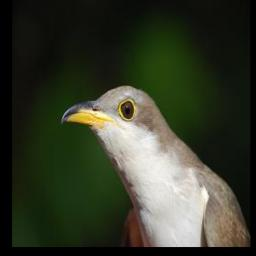Cuckoo: (61, 83, 250, 245)
